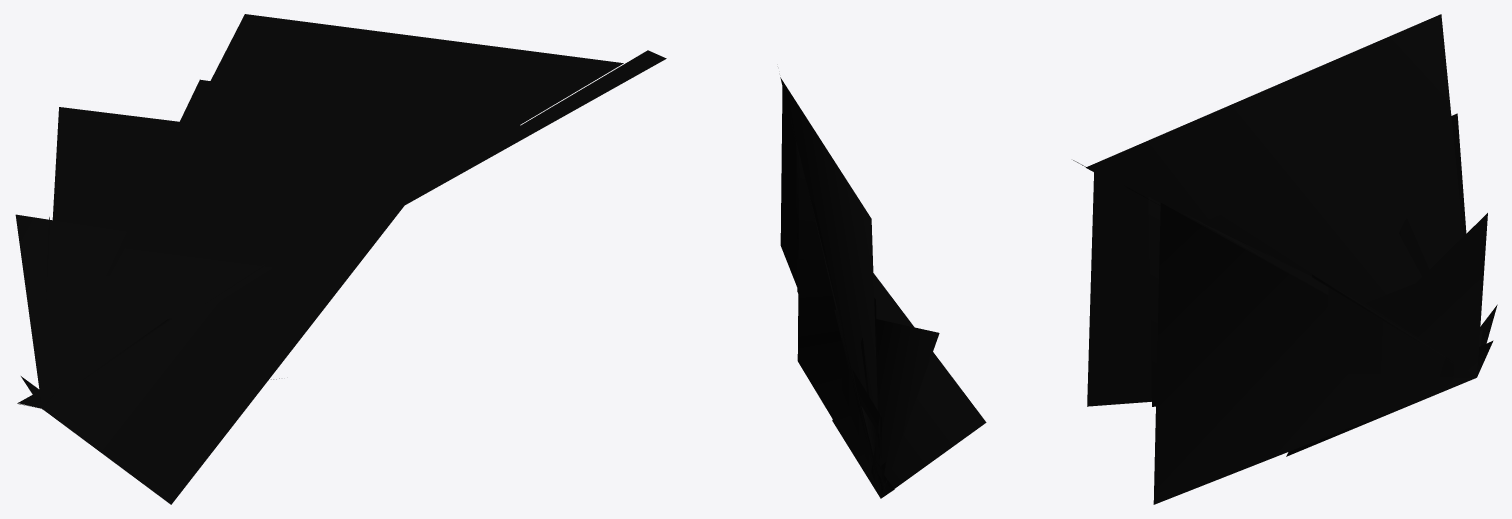
The model's file is sphere_two_tex_coords_roundtrip.gltf.
3 views of the same model, side by side, from view 1: azimuth 30°, elevation 25°; view 2: azimuth 150°, elevation 25°; view 3: azimuth 270°, elevation 25° (orthographic). The views are drawn at different scales.
Bounding box in the file's own units: 4.05e-37 × 3.99e-37 × 4.05e-37.
1 material, 1 textured.
